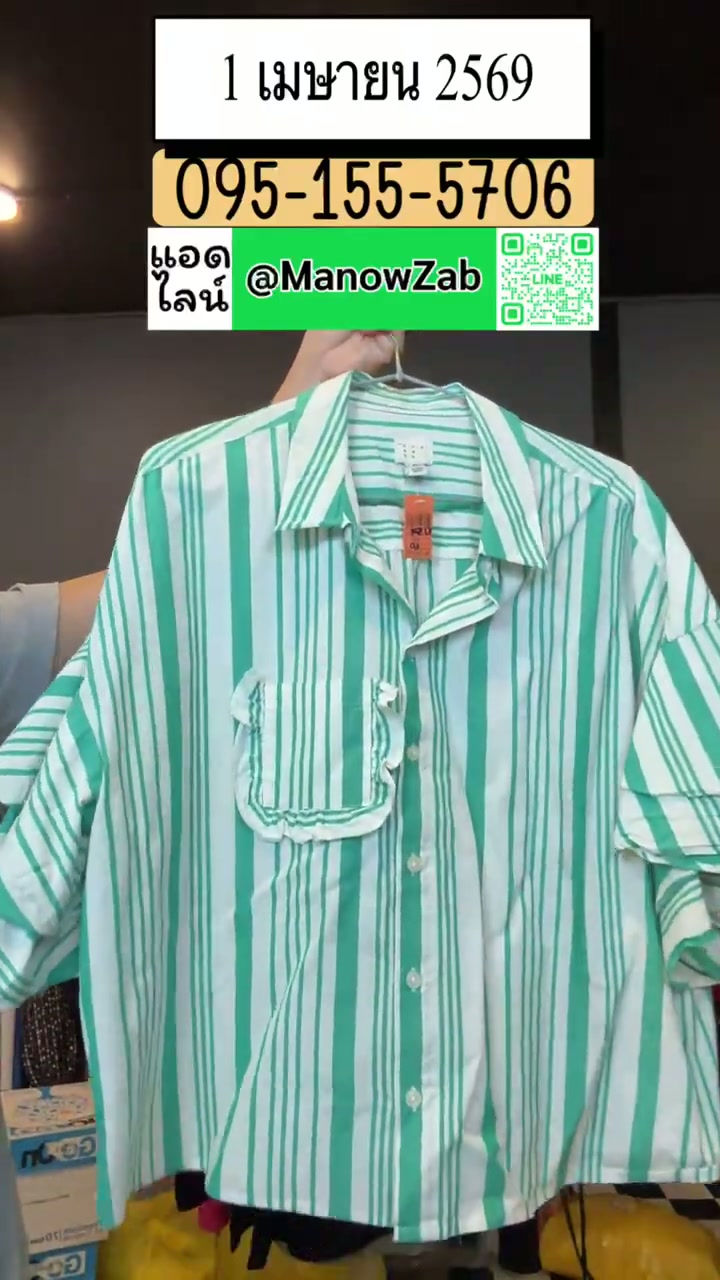display_shirt: (0, 375, 719, 1243)
